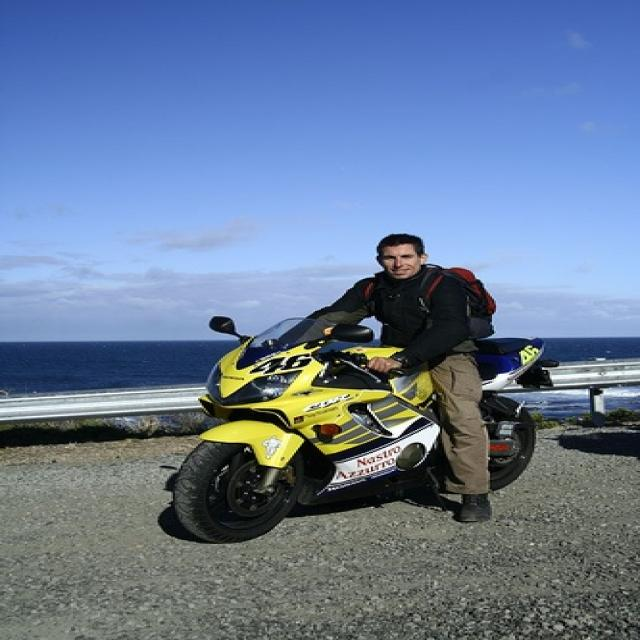motorbike: (169, 311, 557, 543)
